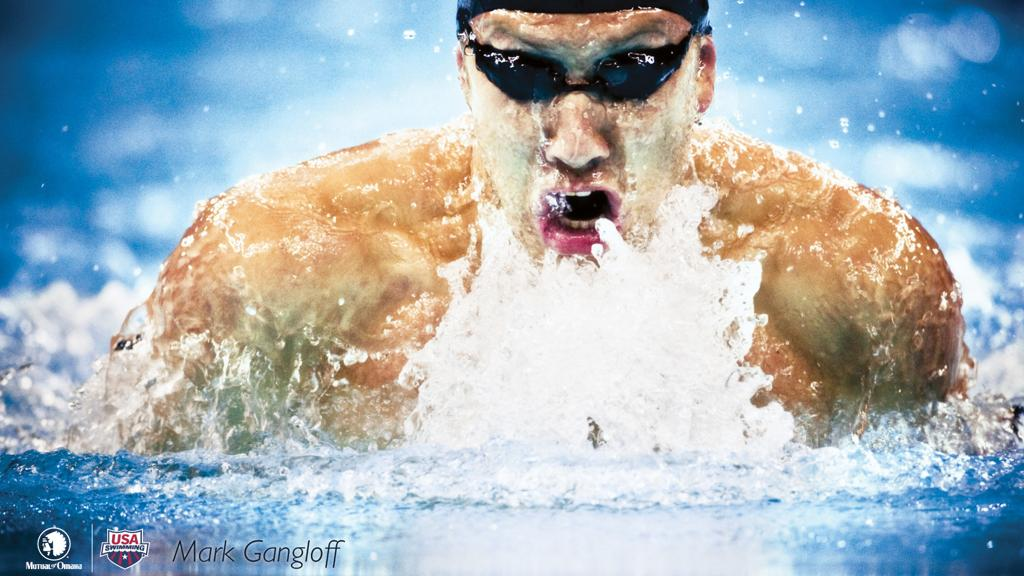face: (472, 16, 700, 278)
